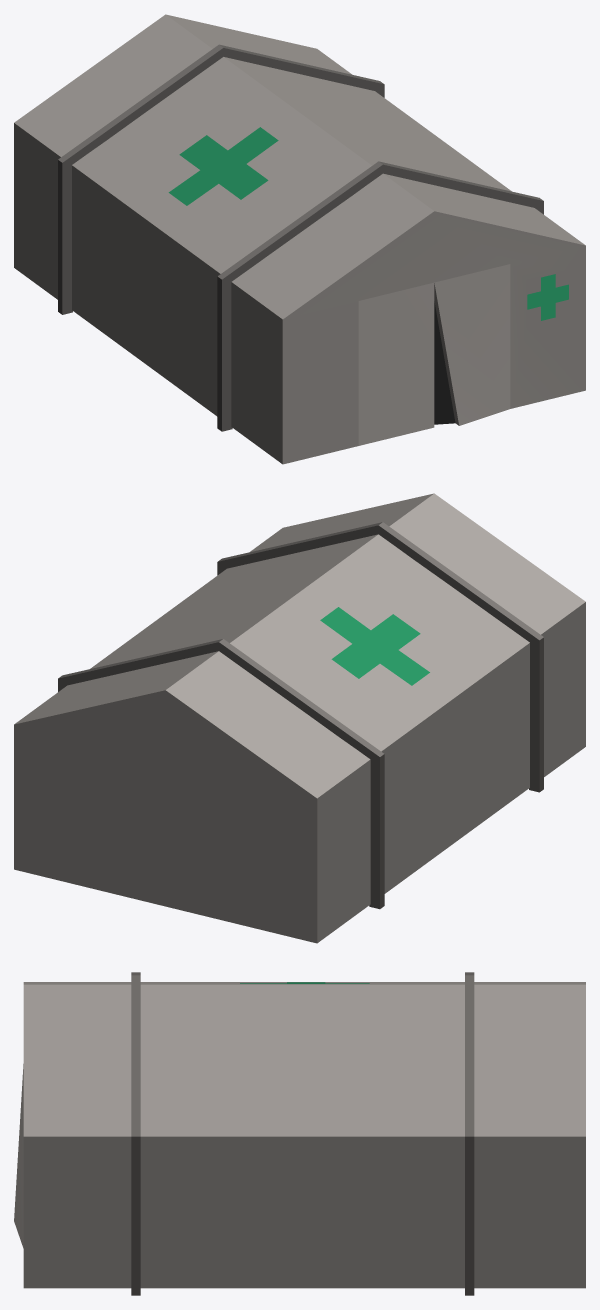
The model's file is SA_Bld_BioTentMedical_01.gltf.
3 renders of one model, top to bottom at view 1: azimuth 30°, elevation 25°; view 2: azimuth 150°, elevation 25°; view 3: azimuth 270°, elevation 25°, orthographic. The views are drawn at different scales.
Visible parts, largest first — view 1: SA_Bld_BioTentMedical_01; view 2: SA_Bld_BioTentMedical_01; view 3: SA_Bld_BioTentMedical_01.
Boxes of the visible parts, box(x1,y1,x2,y2) form: SA_Bld_BioTentMedical_01: box(14, 14, 585, 464); SA_Bld_BioTentMedical_01: box(14, 493, 585, 943); SA_Bld_BioTentMedical_01: box(14, 972, 585, 1295).
Bounding box in the file's own units: 8.98 × 6.07 × 13.21.
Materials: 1 (1 with a texture image).
